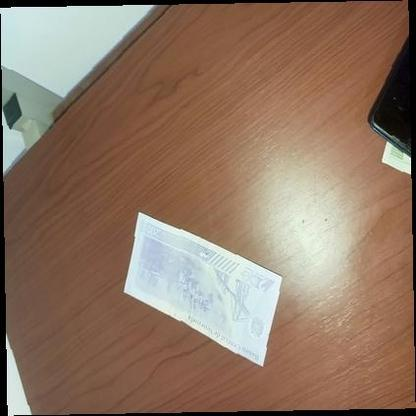two_hundred-back-vef: (122, 210, 282, 367)
